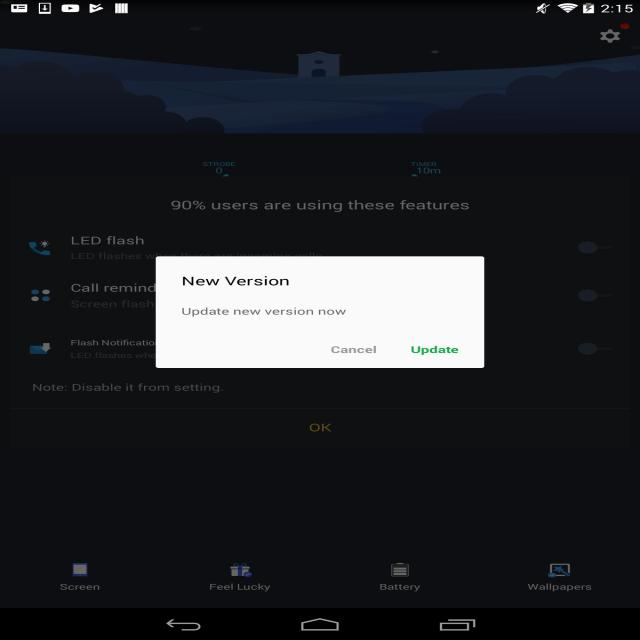button: (489, 556, 629, 602), (170, 557, 300, 601), (13, 559, 144, 600), (337, 557, 455, 601), (396, 336, 470, 366), (320, 338, 387, 364), (286, 416, 354, 440), (594, 22, 636, 52), (577, 339, 616, 365), (579, 285, 618, 309), (575, 238, 615, 260)
heading: (178, 273, 294, 291)
image: (0, 21, 640, 137), (21, 340, 57, 360), (31, 237, 52, 256), (31, 286, 52, 305)
text: (170, 198, 478, 217), (54, 232, 178, 262), (66, 282, 180, 308), (28, 383, 224, 398), (64, 334, 182, 356), (176, 306, 351, 318)
